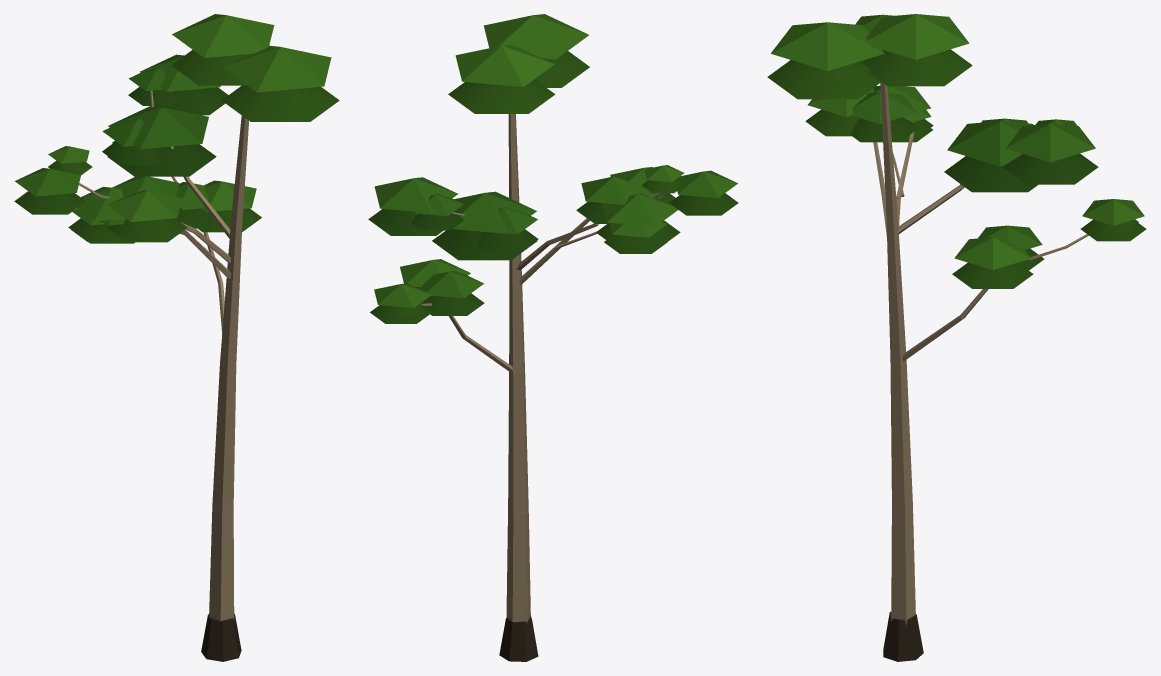
File: tree_birch_3_far.glb
3 views of the same model, side by side, from view 1: azimuth 30°, elevation 25°; view 2: azimuth 150°, elevation 25°; view 3: azimuth 270°, elevation 25° (orthographic). The views are drawn at different scales.
Parts seen in each view (by area): view 1: leaf, wood; view 2: leaf, wood; view 3: leaf, wood.
Boxes of the visible parts, x1,y1,x2,y2 form: leaf: (14, 14, 339, 243); wood: (79, 90, 248, 661); leaf: (368, 14, 738, 323); wood: (421, 114, 666, 661); leaf: (767, 14, 1146, 288); wood: (873, 82, 1088, 661).
Bounding box in the file's own units: 4.78 × 10.03 × 5.35.
